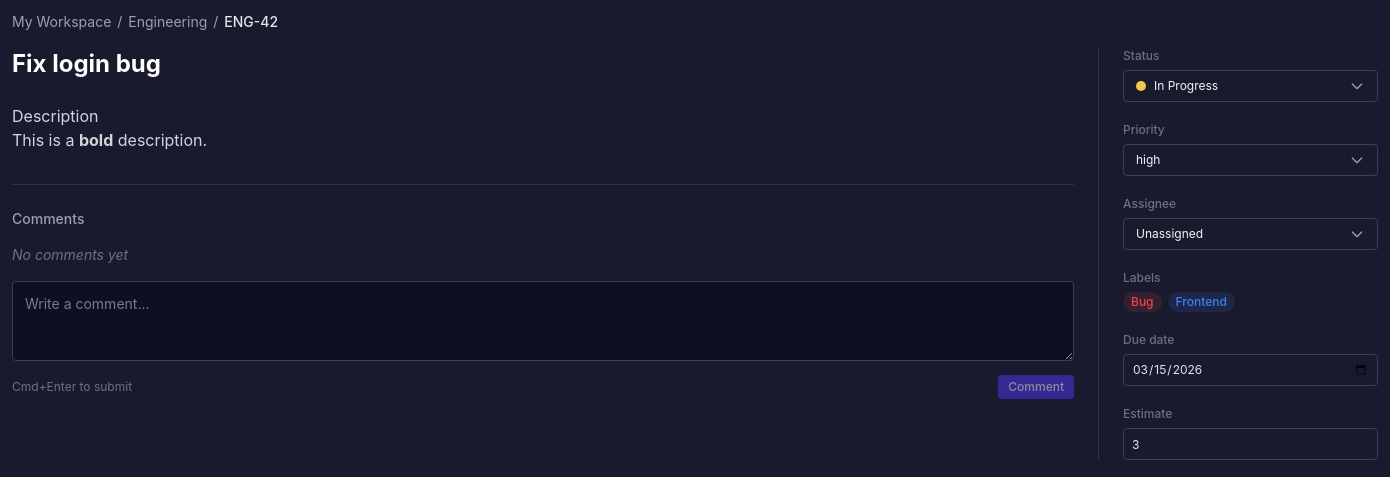
Test case: IssueDetailPage › cancels title edit on Escape
The image size is (1390, 477).
Step 1. Click the button with test id "issue-title" → coordinates (86, 64), box [12,49,161,78]
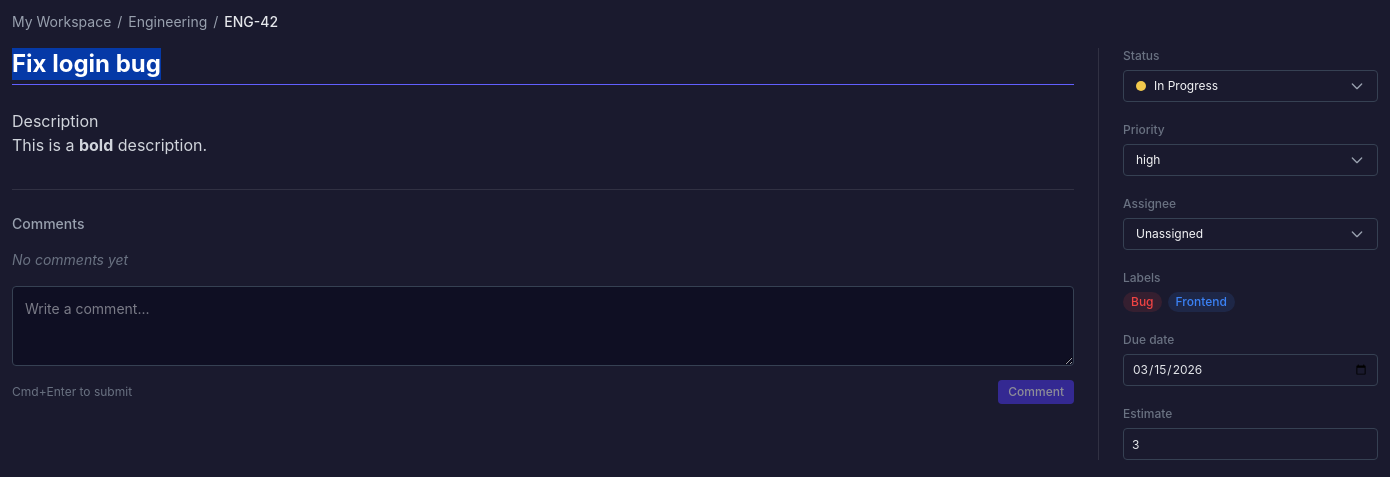
Step 2. Replace the text in the field with test id "issue-title-input" with "Should not save" → coordinates (543, 66), box [12,48,1074,85]
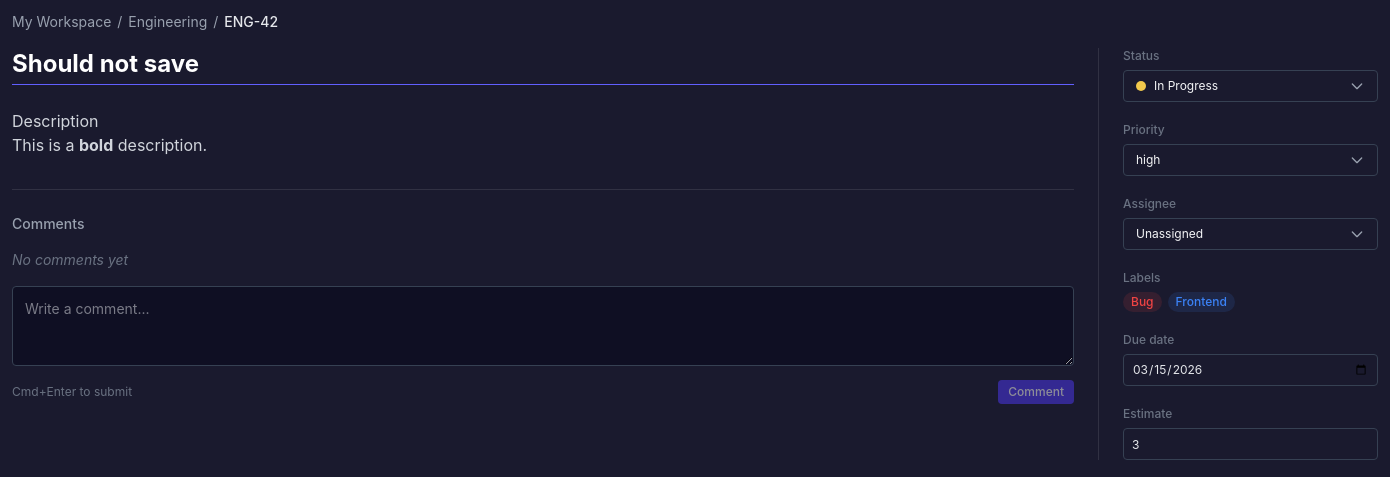
Step 3. Press Escape
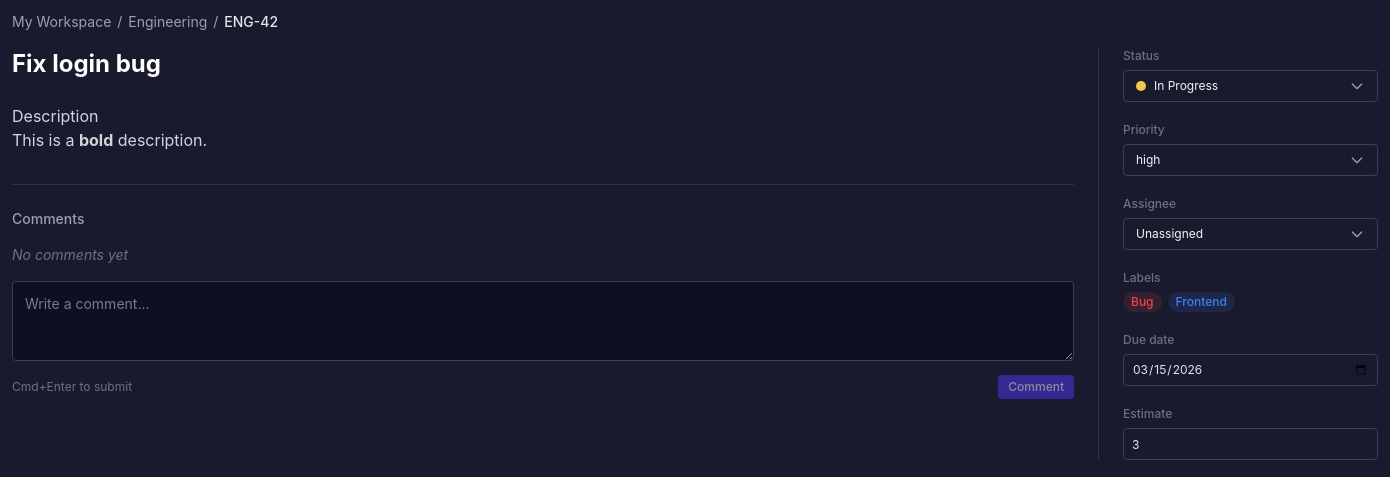
Expected: the button with test id "issue-title" reads "Fix login bug", [12,49,161,78]
